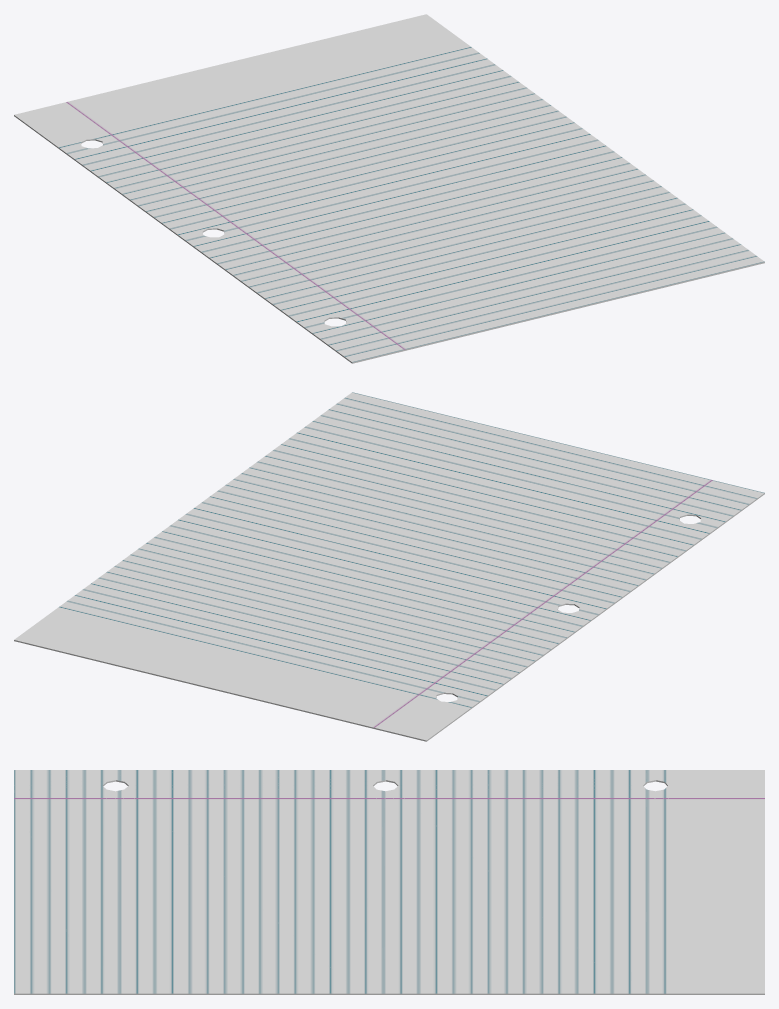
The model's file is Paper.fbx.
The picture shows the model from 3 angles, top to bottom: view 1: azimuth 30°, elevation 25°; view 2: azimuth 150°, elevation 25°; view 3: azimuth 270°, elevation 25°; orthographic projection. The views are drawn at different scales.
Visible parts, largest first — view 1: Paper; view 2: Paper; view 3: Paper.
Part boxes in pixels (x1,y1,x2,y2): Paper: [14, 14, 764, 363]; Paper: [14, 392, 764, 741]; Paper: [14, 770, 764, 994].
Bounding box in the file's own units: 0.4621 × 0.00138 × 0.6563.
Materials: 1 (1 with a texture image).
